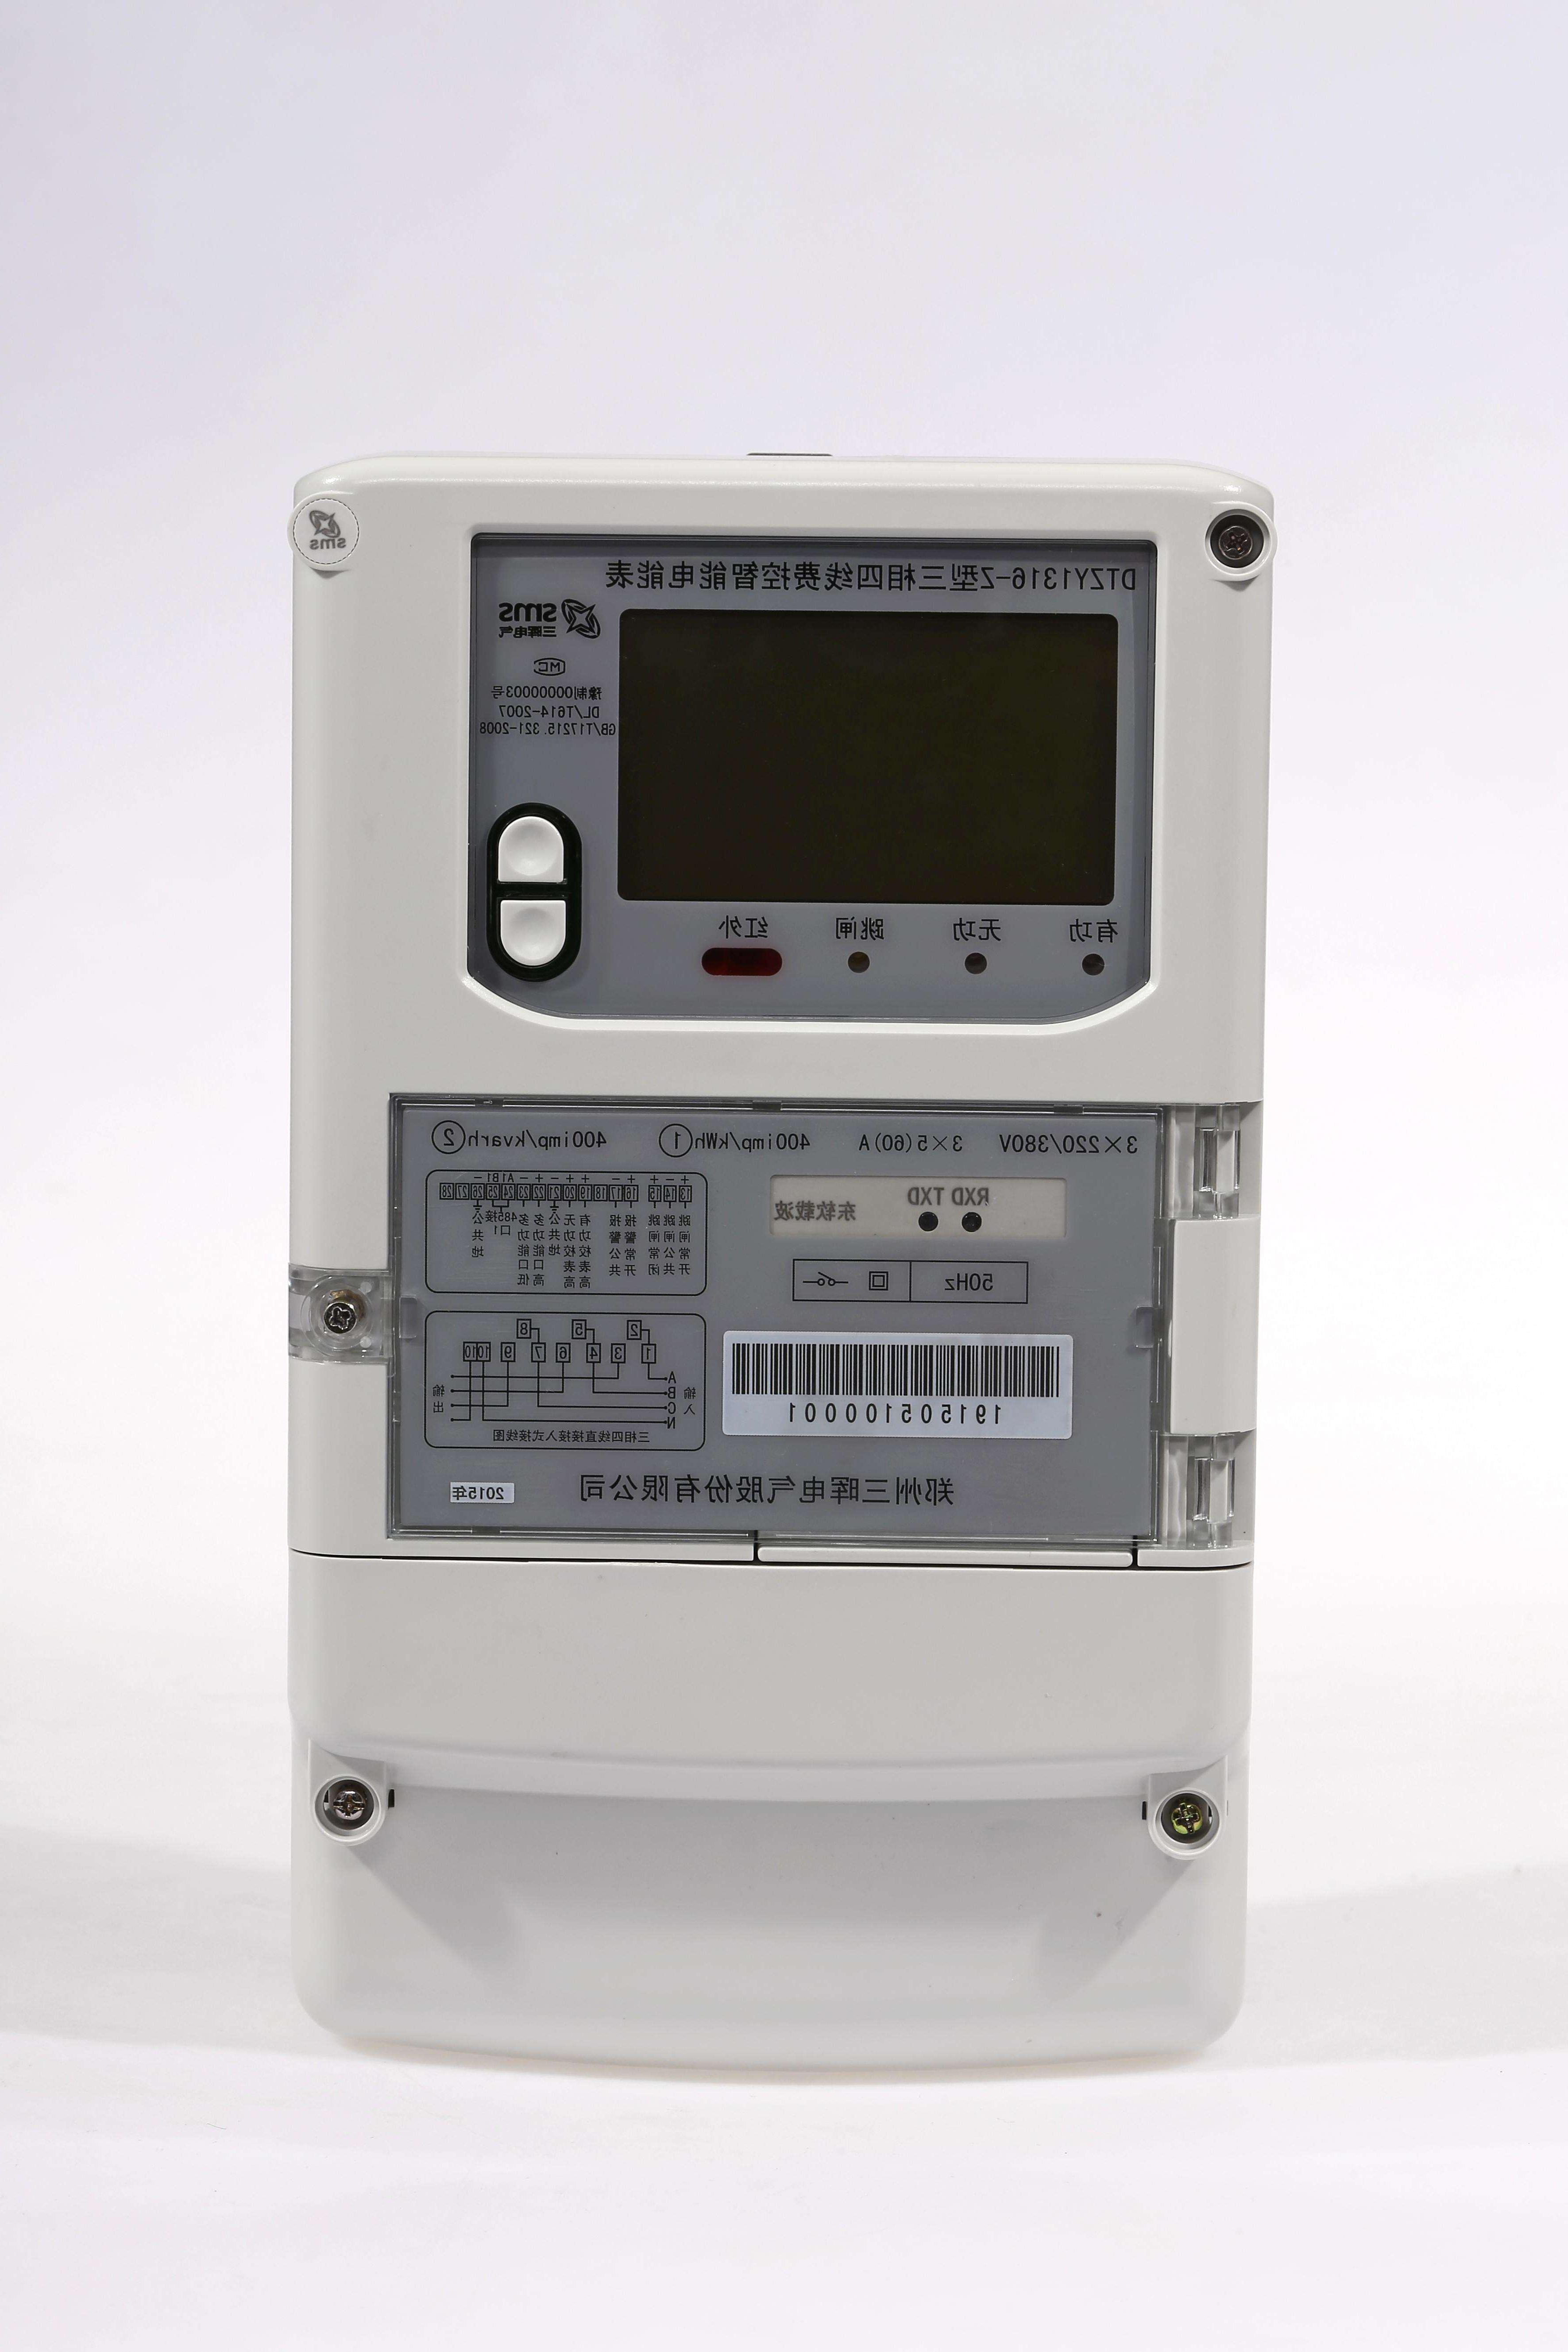digital: (289, 478, 1269, 1808)
